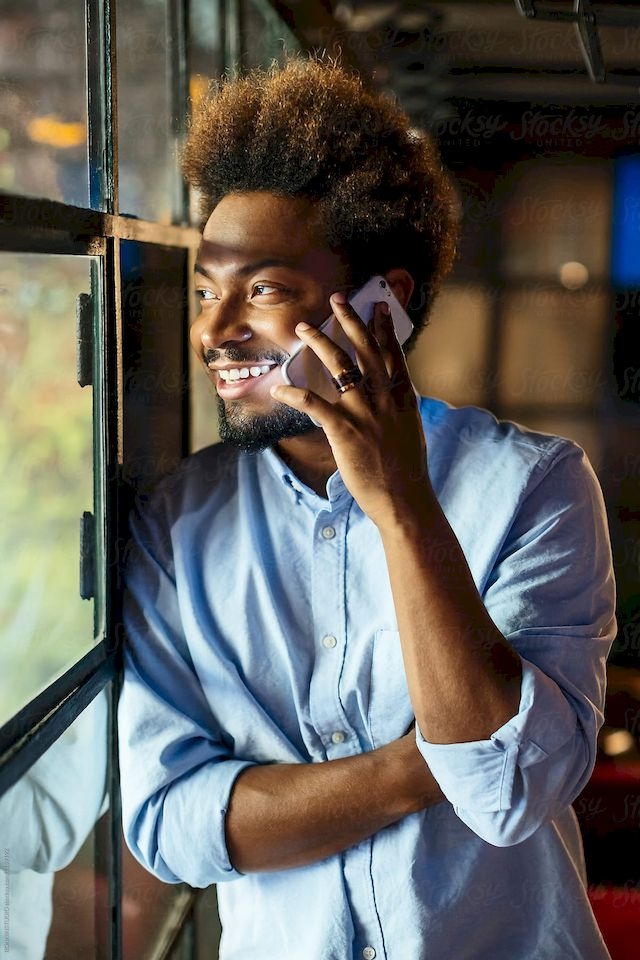phone: (282, 277, 406, 415)
talk: (188, 249, 433, 485)
